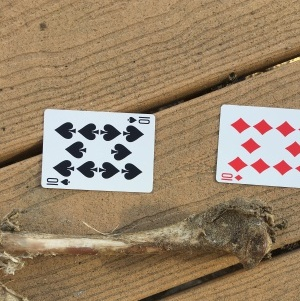card: (39, 107, 157, 194)
